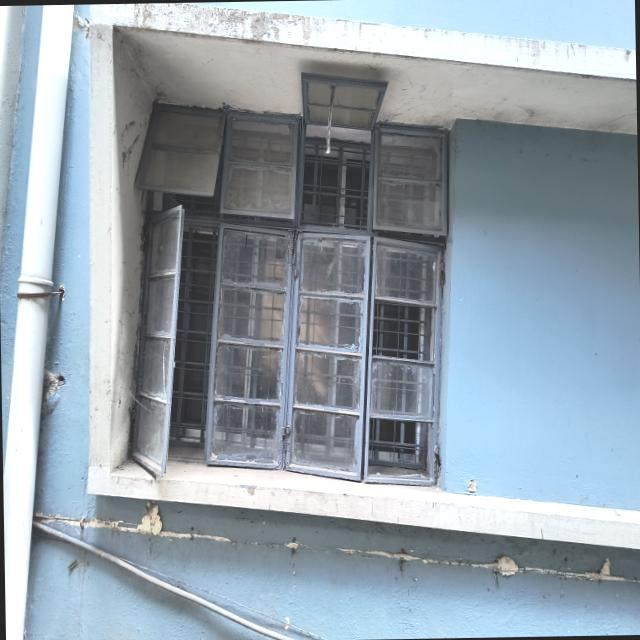pollution -moisture induced blackening: (90, 4, 636, 83)
